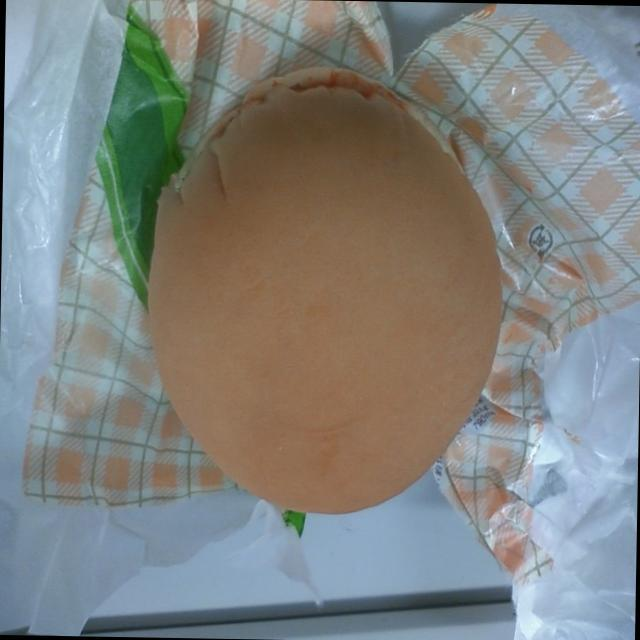Hamburger: (124, 76, 508, 542)
